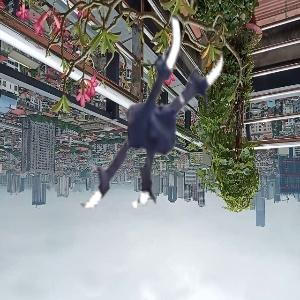drone: (33, 8, 243, 218)
